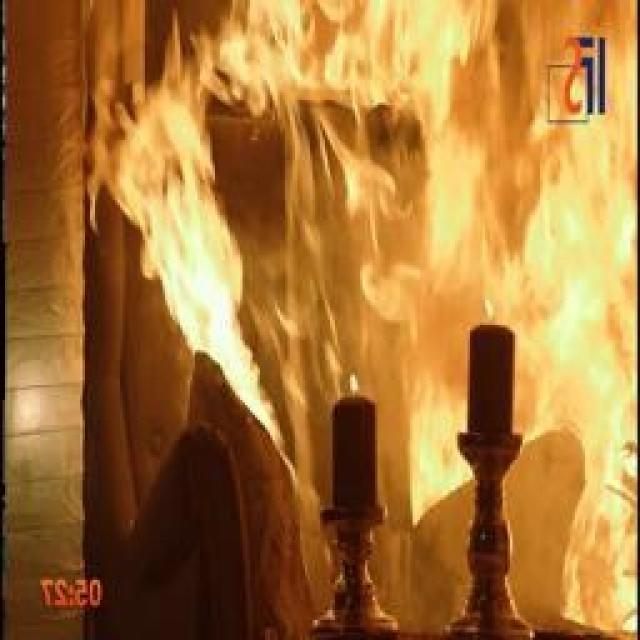fire: (64, 2, 631, 640)
